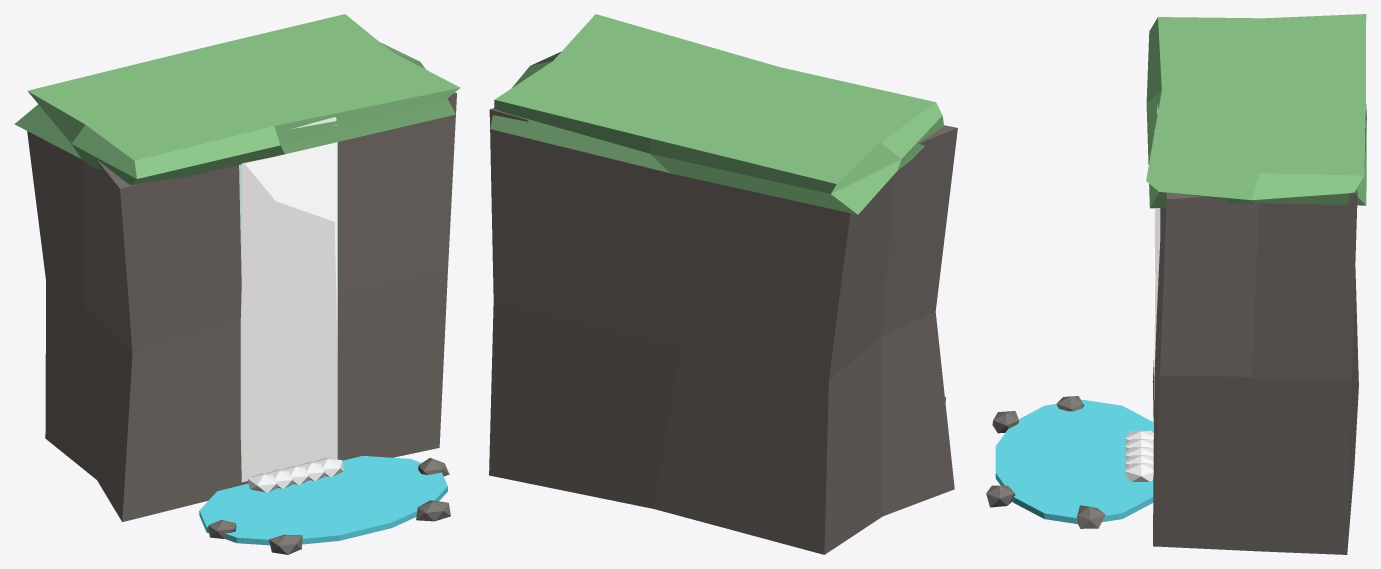
The model's file is air_terjun_v001.glb.
3 renders of one model, left to right at view 1: azimuth 30°, elevation 25°; view 2: azimuth 150°, elevation 25°; view 3: azimuth 270°, elevation 25°, orthographic. The views are drawn at different scales.
Parts seen in each view (by area): view 1: Air_Terjun; view 2: Air_Terjun; view 3: Air_Terjun.
Boxes of the visible parts, x1=… form: Air_Terjun: x1=14, y1=14, x2=460, y2=554; Air_Terjun: x1=489, y1=14, x2=957, y2=554; Air_Terjun: x1=986, y1=14, x2=1366, y2=554.
Bounding box in the file's own units: 6.66 × 6.5 × 5.93.
